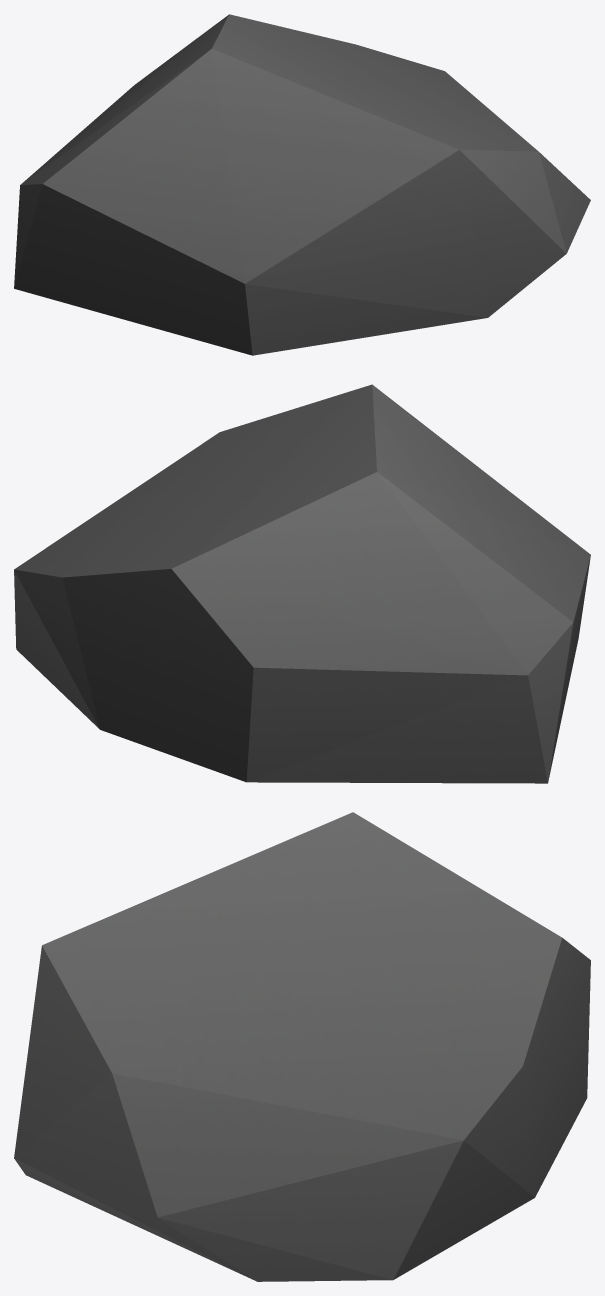
Rendered from Jungle_Rock_Med_B.fbx.
3 views of the same model, one above another, from view 1: azimuth 30°, elevation 25°; view 2: azimuth 150°, elevation 25°; view 3: azimuth 270°, elevation 25° (orthographic). The views are drawn at different scales.
Visible parts, largest first — view 1: Jungle_Rock_Med_B; view 2: Jungle_Rock_Med_B; view 3: Jungle_Rock_Med_B.
Boxes of the visible parts, x1,y1,x2,y2 form: Jungle_Rock_Med_B: [14, 14, 590, 355]; Jungle_Rock_Med_B: [14, 384, 590, 783]; Jungle_Rock_Med_B: [14, 812, 590, 1281].
Size of the model in its own units: 2.02 by 0.8799 by 1.65.
